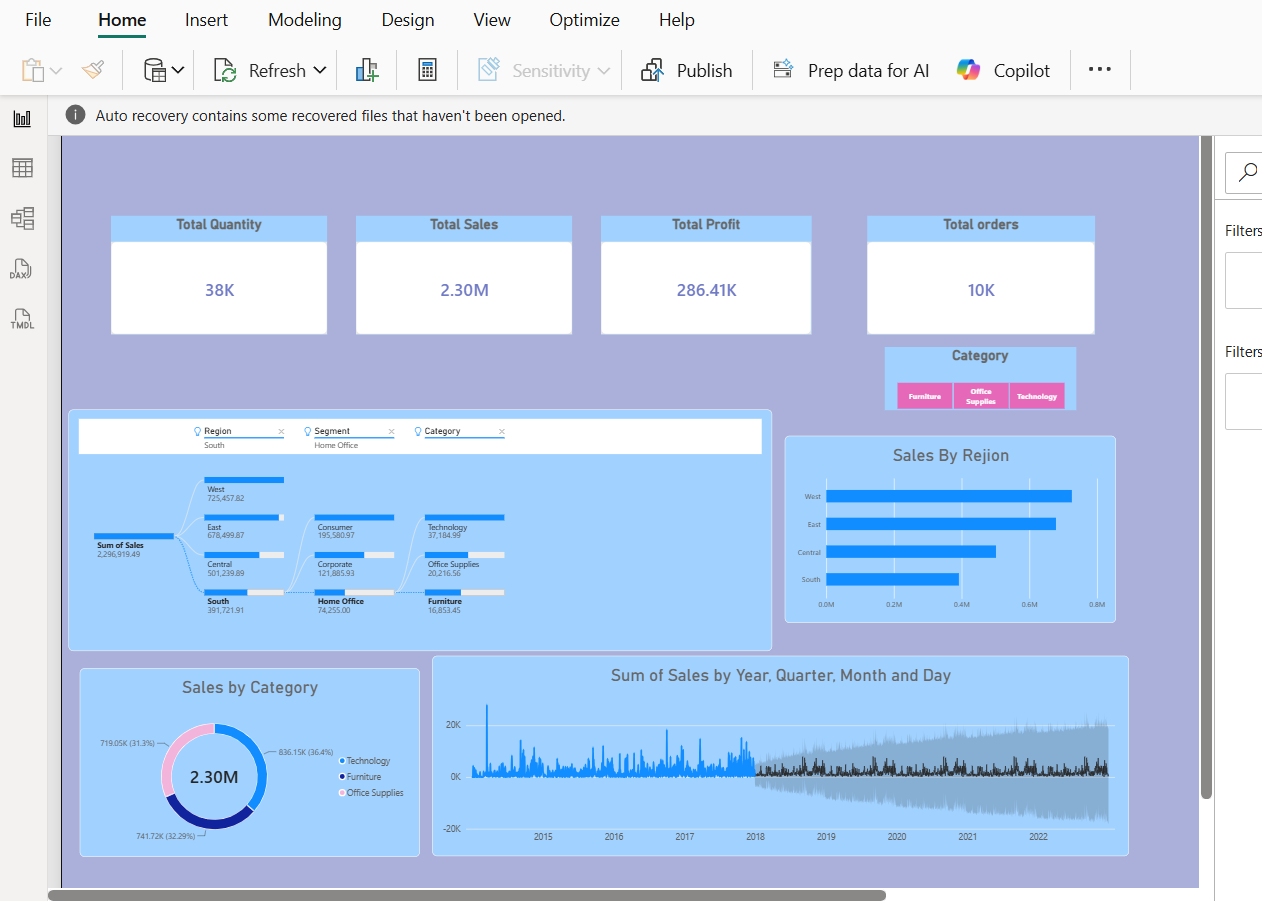

The dashboard page shown, as its layout file describes it:
{"tool":"powerbi","page":{"name":"Dashboard","canvas":[2560,1440],"ordinal":1},"visuals":[{"type":"cardVisual","title":"Total Sales","fields":{"Data":["Sum(Sample - Superstore.Sales)"]},"box":[481.2,178.1,353.1,193.8],"z":0},{"type":"cardVisual","title":"Total Profit","fields":{"Data":["Sum(Sample - Superstore.Profit)"]},"box":[881.2,178.1,343.8,193.8],"z":1000},{"type":"barChart","title":"Sales By Rejion","fields":{"Category":["Sample - Superstore.Region"],"Y":["Sum(Sample - Superstore.Sales)"]},"box":[1181.2,537.5,541.2,305.9],"z":2000},{"type":"donutChart","title":"Sales by Category","fields":{"Category":["Sample - Superstore.Category"],"Y":["Sum(Sample - Superstore.Sales)"]},"box":[31.2,915.6,554.9,307.8],"z":3000},{"type":"lineChart","fields":{"Category":["Sample - Superstore.Order Date.Variation.Date Hierarchy.Year","Sample - Superstore.Order Date.Variation.Date Hierarchy.Quarter","Sample - Superstore.Order Date.Variation.Date Hierarchy.Month","Sample - Superstore.Order Date.Variation.Date Hierarchy.Day"],"Y":["Sum(Sample - Superstore.Sales)"]},"box":[606.2,896.9,1137.3,327.5],"z":4000},{"type":"decompositionTreeVisual","fields":{"Analyze":["Sum(Sample - Superstore.Sales)"],"ExplainBy":["Sample - Superstore.Region","Sample - Superstore.Segment","Sample - Superstore.Category"]},"box":[12.5,493.8,1149,394.1],"z":5000},{"type":"slicer","title":"Category","fields":{"Values":["Sample - Superstore.Category"]},"box":[1345,392.5,312.5,103.1],"z":6000},{"type":"cardVisual","title":"Total orders","fields":{"Data":["Sample - Superstore.total_orders"]},"box":[1315.6,178.1,371.9,193.8],"z":7000},{"type":"cardVisual","title":"Total Quantity","fields":{"Data":["Sum(Sample - Superstore.Quantity)"]},"box":[81.2,178.1,353.1,193.8],"z":8000}]}

Visuals, with their boxes on the page's 2560x1440 design canvas (x1, y1, x2, y2). These are canvas units, not pixel positions in the 1262x901 screenshot, which may show the page scaled, cropped or inside an application window:
"Total Sales" cardVisual: (481,178,834,372)
"Total Profit" cardVisual: (881,178,1225,372)
"Sales By Rejion" barChart: (1181,538,1722,843)
"Sales by Category" donutChart: (31,916,586,1223)
lineChart - Sample - Superstore.Order Date.Variation.Date Hierarchy.Year x Sample - Superstore.Order Date.Variation.Date Hierarchy.Quarter: (606,897,1744,1224)
decompositionTreeVisual - Sum(Sample - Superstore.Sales) x Sample - Superstore.Region: (12,494,1162,888)
"Category" slicer: (1345,392,1658,496)
"Total orders" cardVisual: (1316,178,1688,372)
"Total Quantity" cardVisual: (81,178,434,372)
